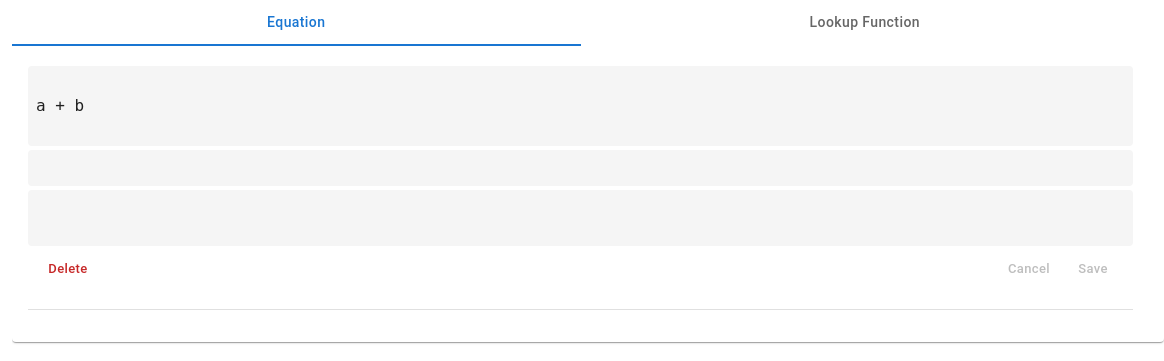
VariableDetails discard (Cancel / Escape) › Escape discards the equation edit and reverts to the preview
Step 1. Click the element with class "eqnPreview" → {"x": 580, "y": 106}, box [28,66,1133,146]
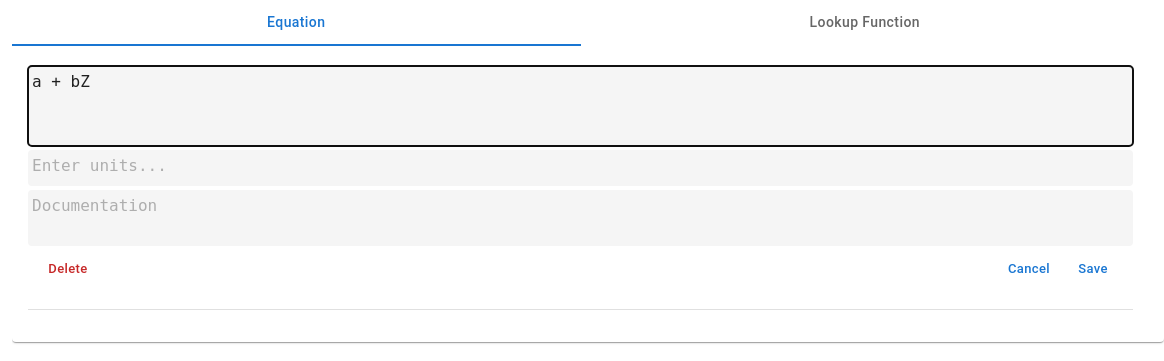
Now the field with class "eqnEditor" is shown
Now the button "Cancel" is enabled, box [997,254,1061,285]
Now the field with class "eqnEditor" reads "a + bZ"
Step 2. Press Escape in the field with class "eqnEditor", box [28,66,1133,146]
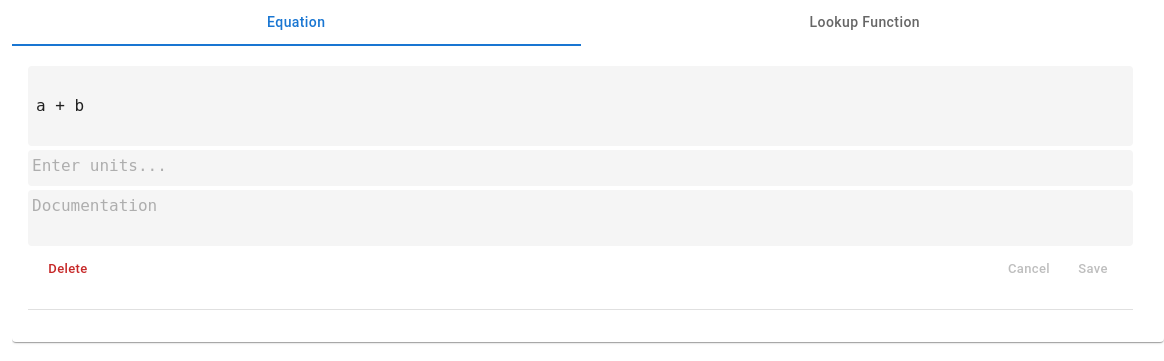
Expected: the element with class "eqnPreview" reads "a + b", [36,96,84,115]
Now the field with class "eqnPreview" no longer shows "a + bZ"
